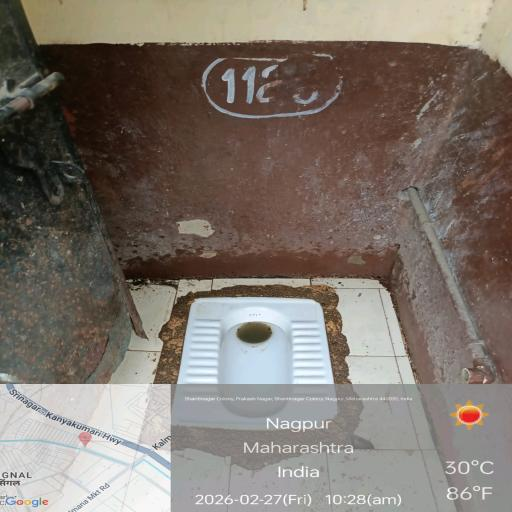partial_dirty_floor: (85, 131, 404, 268), (375, 64, 512, 362), (0, 171, 167, 388)
partial_dirty_indian: (185, 292, 332, 386)
